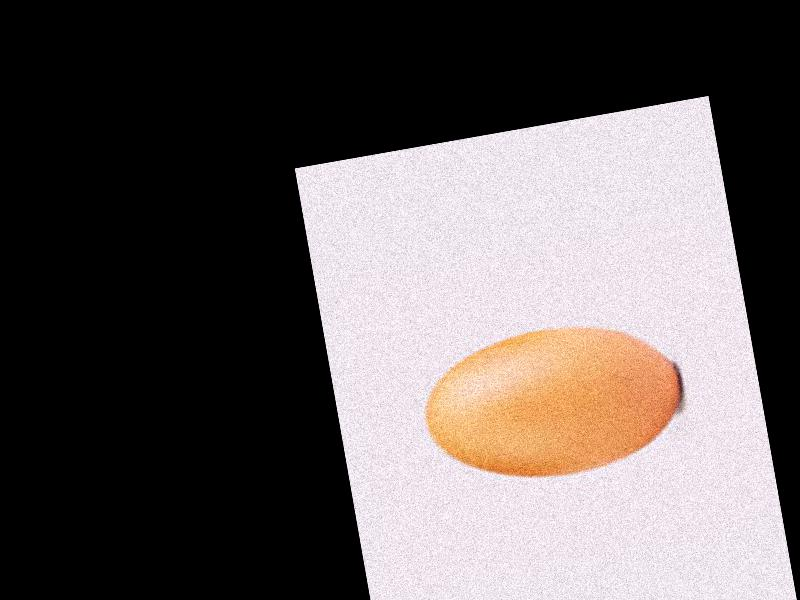Eggs: (410, 310, 693, 496)
